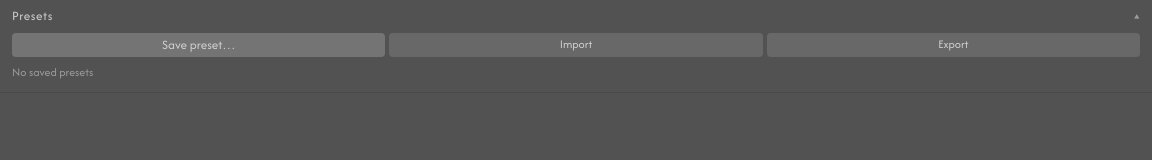
PresetsPanel import feedback › dismisses the message
The image size is (1152, 160).
Click the button "Import". click: coordinates (576, 45)
box: [389, 32, 763, 57]
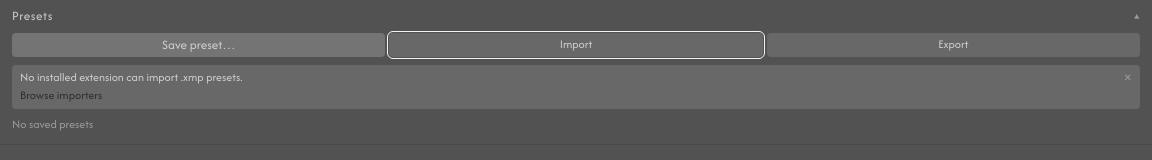
Click the button named "Dismiss". click: coordinates (1128, 78)
box: [1124, 71, 1132, 85]
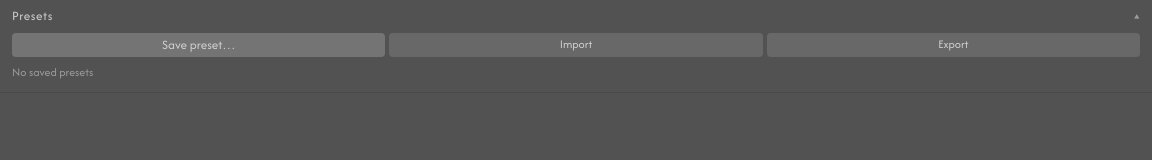
Expected: the text "No installed extension can import .xmp presets." is gone
